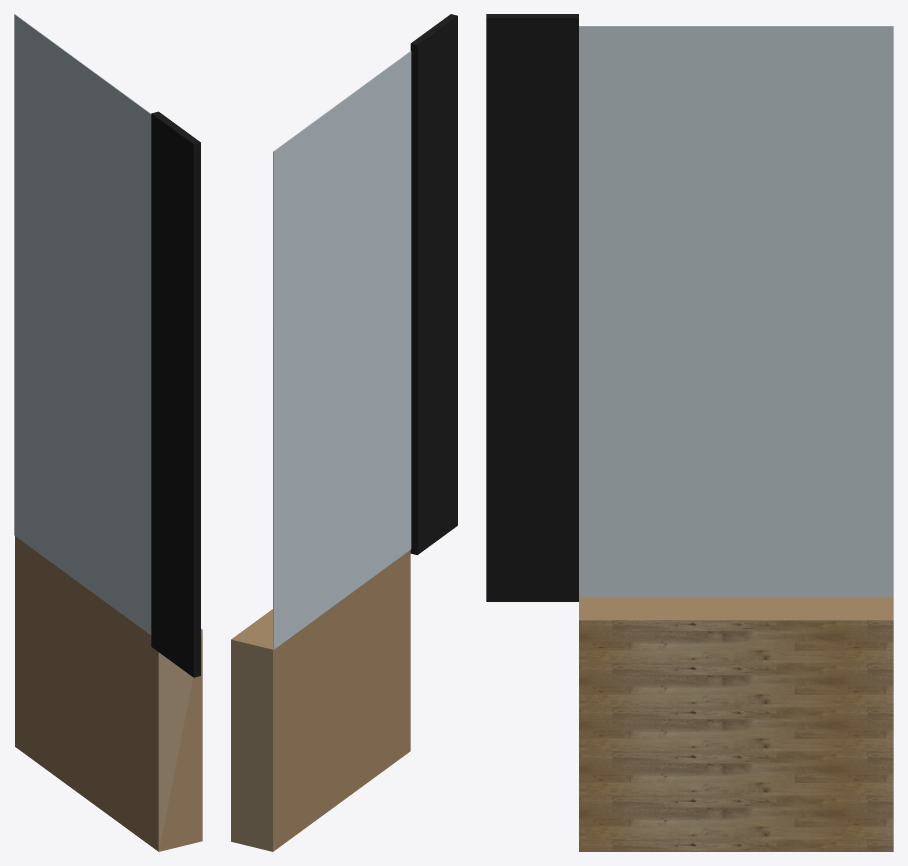
The model's file is room_end_wall_0.obj.
3 renders of one model, left to right at view 1: azimuth 30°, elevation 25°; view 2: azimuth 150°, elevation 25°; view 3: azimuth 270°, elevation 25°, orthographic. The views are drawn at different scales.
Parts seen in each view (by area): view 1: paint_matte_4, paint_matte_1, paint_matte_0, paint_matte_2; view 2: paint_matte_4, paint_matte_1, paint_matte_0, paint_matte_2; view 3: paint_matte_4, paint_matte_texture_0, paint_matte_0, paint_matte_1.
Part boxes in pixels (x1,y1,x2,y2): paint_matte_4: (14,14,151,635); paint_matte_1: (15,536,202,851); paint_matte_0: (151,111,200,677); paint_matte_2: (158,630,202,851); paint_matte_4: (273,51,411,649); paint_matte_1: (231,550,410,851); paint_matte_0: (410,14,457,555); paint_matte_2: (231,639,272,851); paint_matte_4: (579,26,893,596); paint_matte_texture_0: (579,620,893,851); paint_matte_0: (486,14,578,601); paint_matte_1: (579,597,893,620).
Size of the model in its own units: 0.7 by 9.66 by 4.4.
6 materials, 1 textured.
